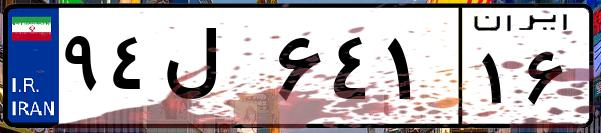1: (385, 28, 445, 110), (475, 38, 525, 113)
4: (330, 28, 385, 110), (110, 28, 158, 98)
6: (270, 28, 330, 110), (525, 38, 570, 115)
9: (57, 26, 110, 100)
ل: (158, 20, 270, 120)
